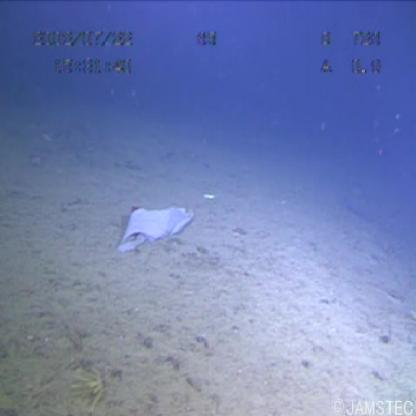Rác: (105, 196, 204, 259)
